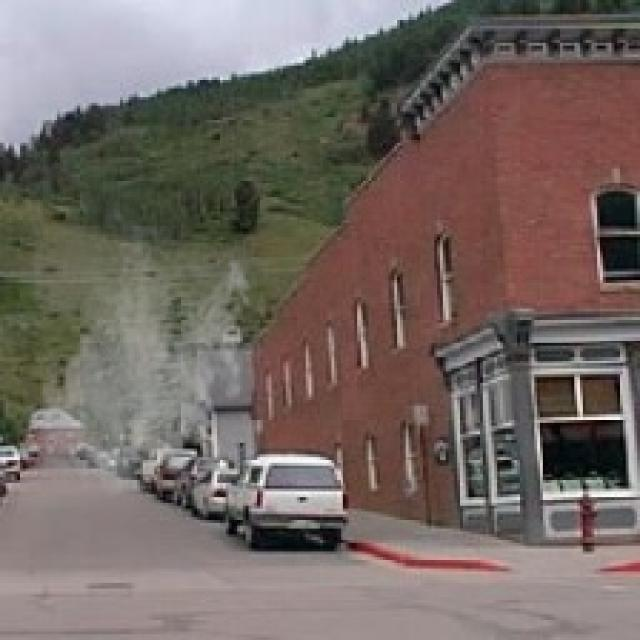smoke: (32, 225, 257, 506)
